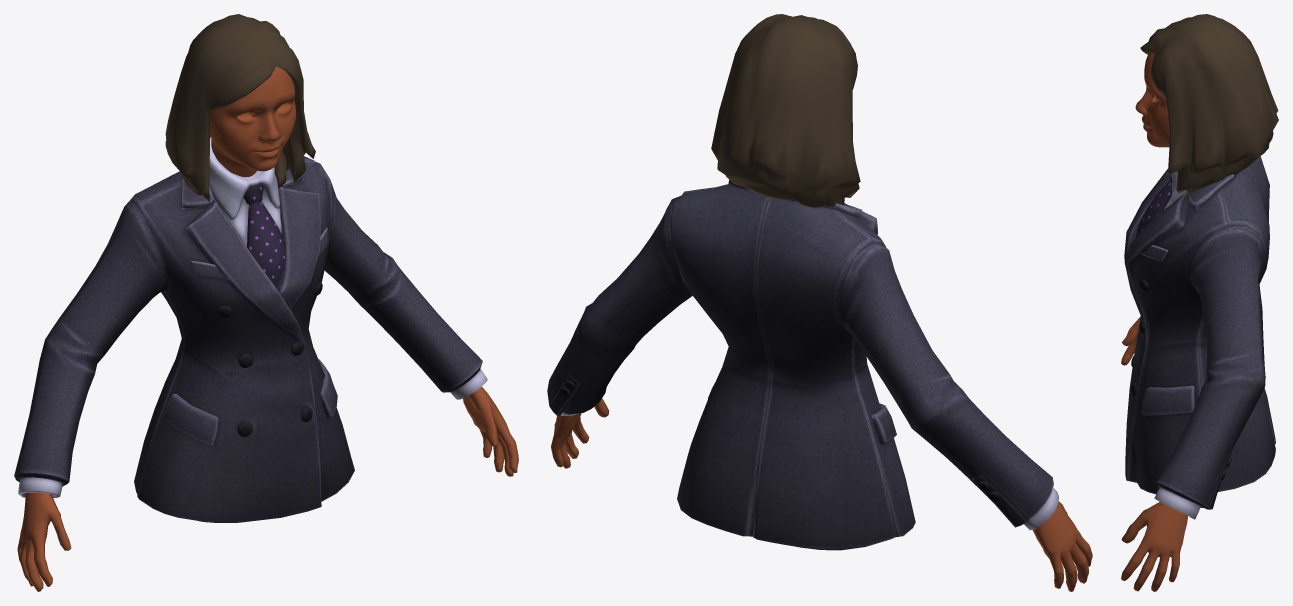
The picture shows the model from 3 angles, left to right: view 1: azimuth 30°, elevation 25°; view 2: azimuth 150°, elevation 25°; view 3: azimuth 270°, elevation 25°; orthographic projection. The views are drawn at different scales.
Visible parts, largest first — view 1: Wolf3D_Outfit_Top, Wolf3D_Hair, Wolf3D_Head, Wolf3D_Body.001; view 2: Wolf3D_Outfit_Top, Wolf3D_Hair, Wolf3D_Body.001; view 3: Wolf3D_Outfit_Top, Wolf3D_Hair, Wolf3D_Body.001, Wolf3D_Head.
Boxes of the visible parts, <box> form: Wolf3D_Outfit_Top: <box>14,137,487,522</box>; Wolf3D_Hair: <box>165,14,315,201</box>; Wolf3D_Head: <box>210,66,296,177</box>; Wolf3D_Body.001: <box>17,387,518,591</box>; Wolf3D_Outfit_Top: <box>547,179,1058,550</box>; Wolf3D_Hair: <box>711,14,860,208</box>; Wolf3D_Body.001: <box>551,398,1092,591</box>; Wolf3D_Outfit_Top: <box>1124,156,1275,519</box>; Wolf3D_Hair: <box>1140,14,1278,194</box>; Wolf3D_Body.001: <box>1121,316,1187,591</box>; Wolf3D_Head: <box>1135,52,1169,147</box>.
Size of the model in its own units: 9.48 by 9.13 by 2.82.
3 materials, 2 textured.
